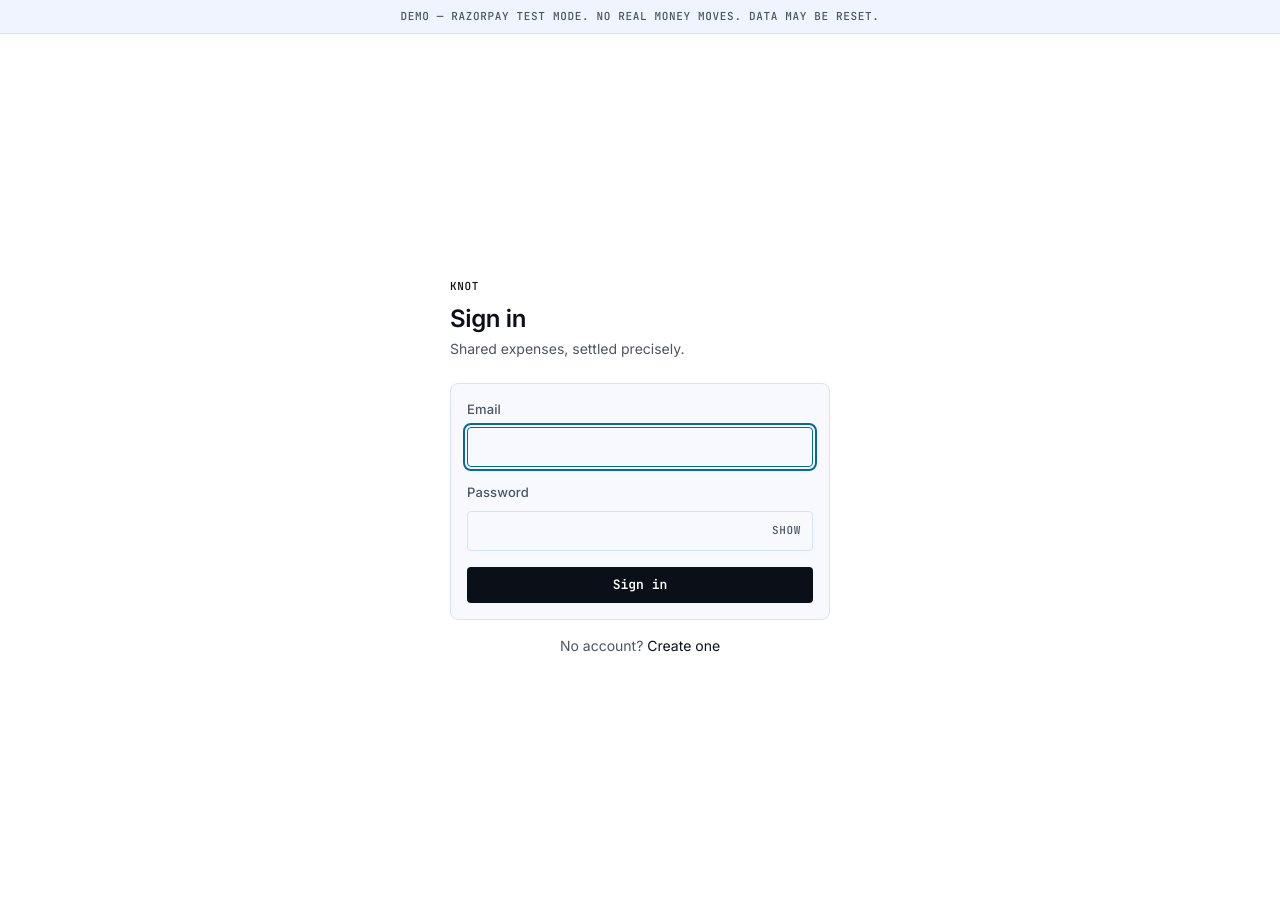
it: LoginPage › shows one message for bad credentials, revealing nothing about which part was wrong
In the field labelled "Email": (640, 447) [467,427,813,467], type "member@example.com"
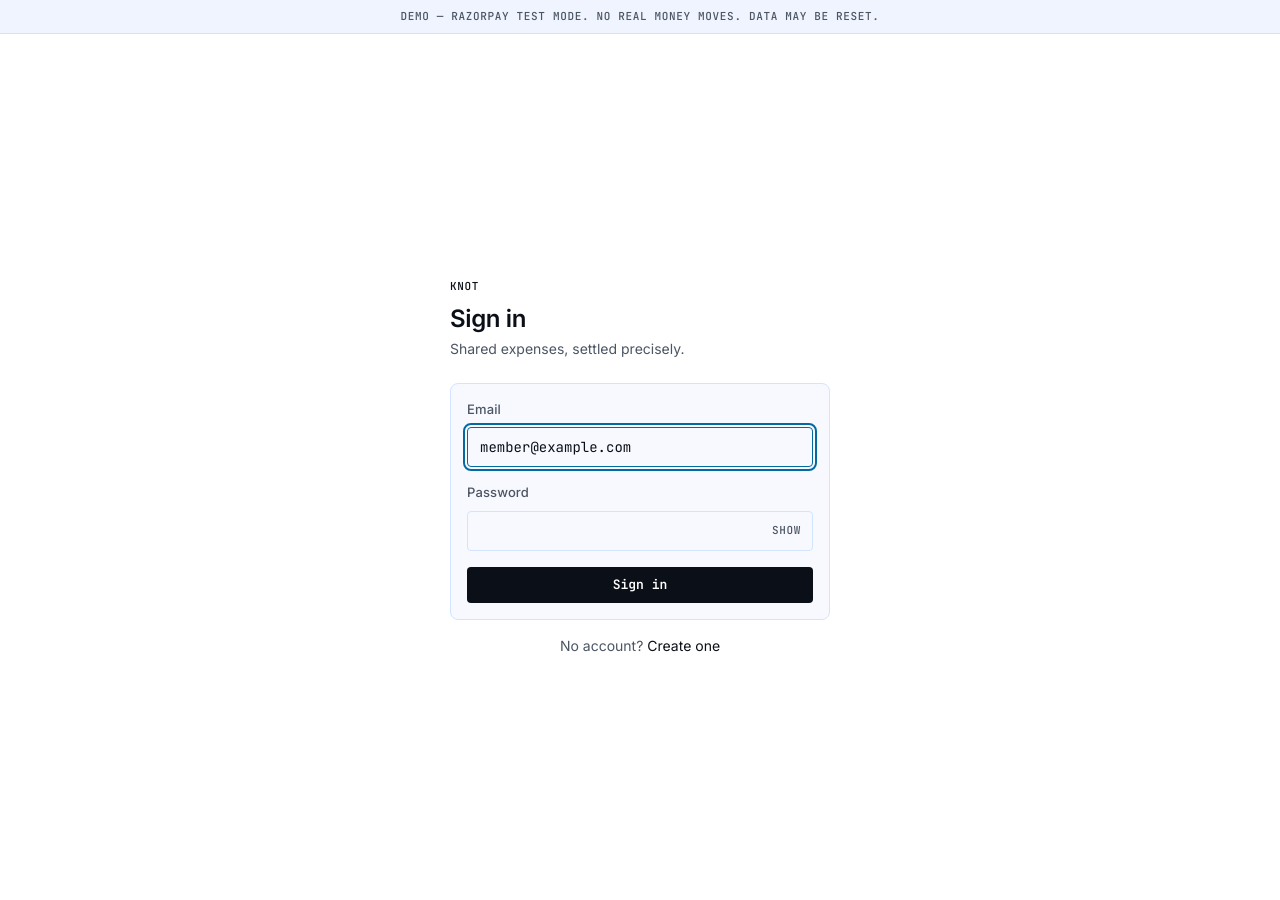
In the password field labelled "Password": (640, 530) [467,510,813,550], type "wrong-password"
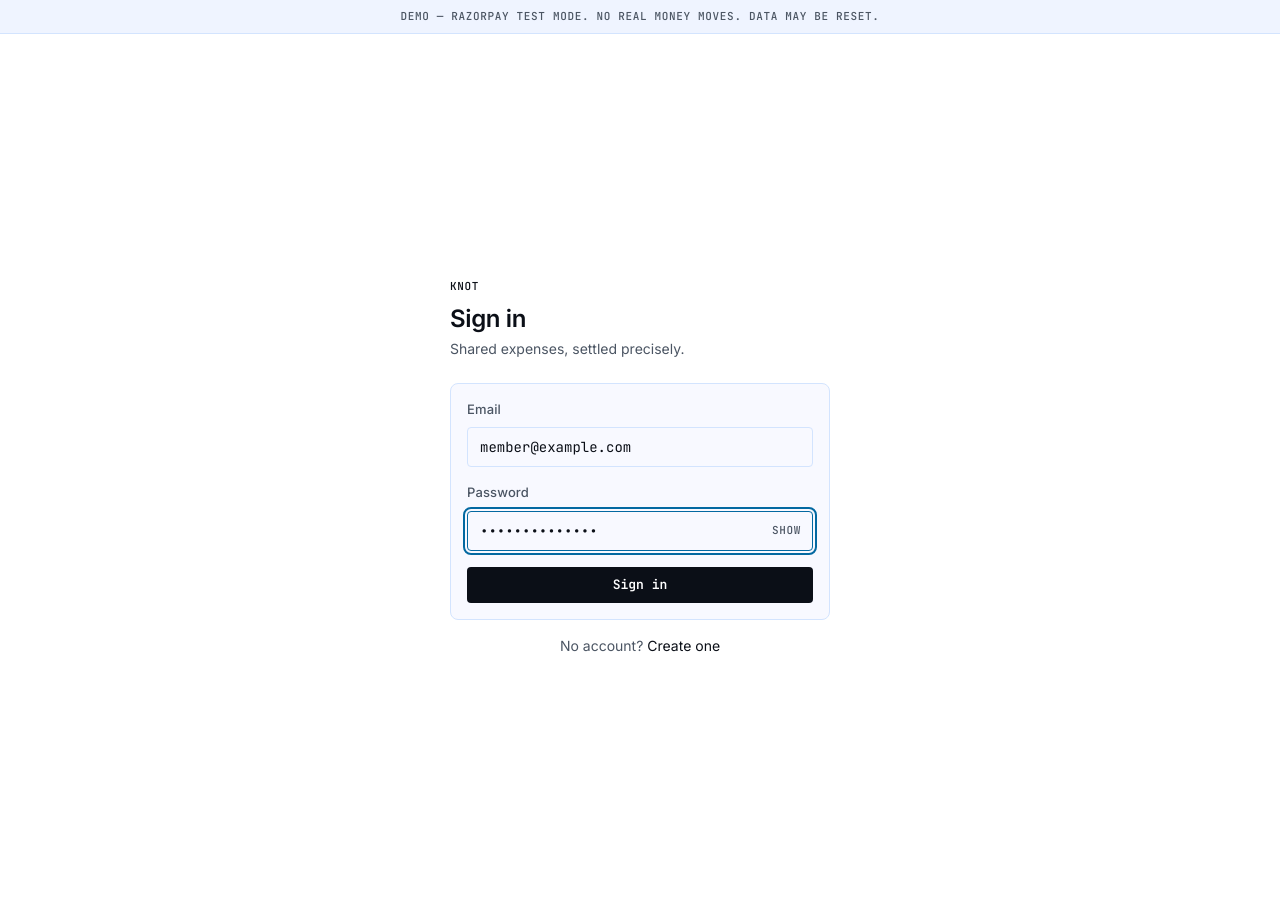
Click the button "Sign in": (640, 584) [467,566,813,602]
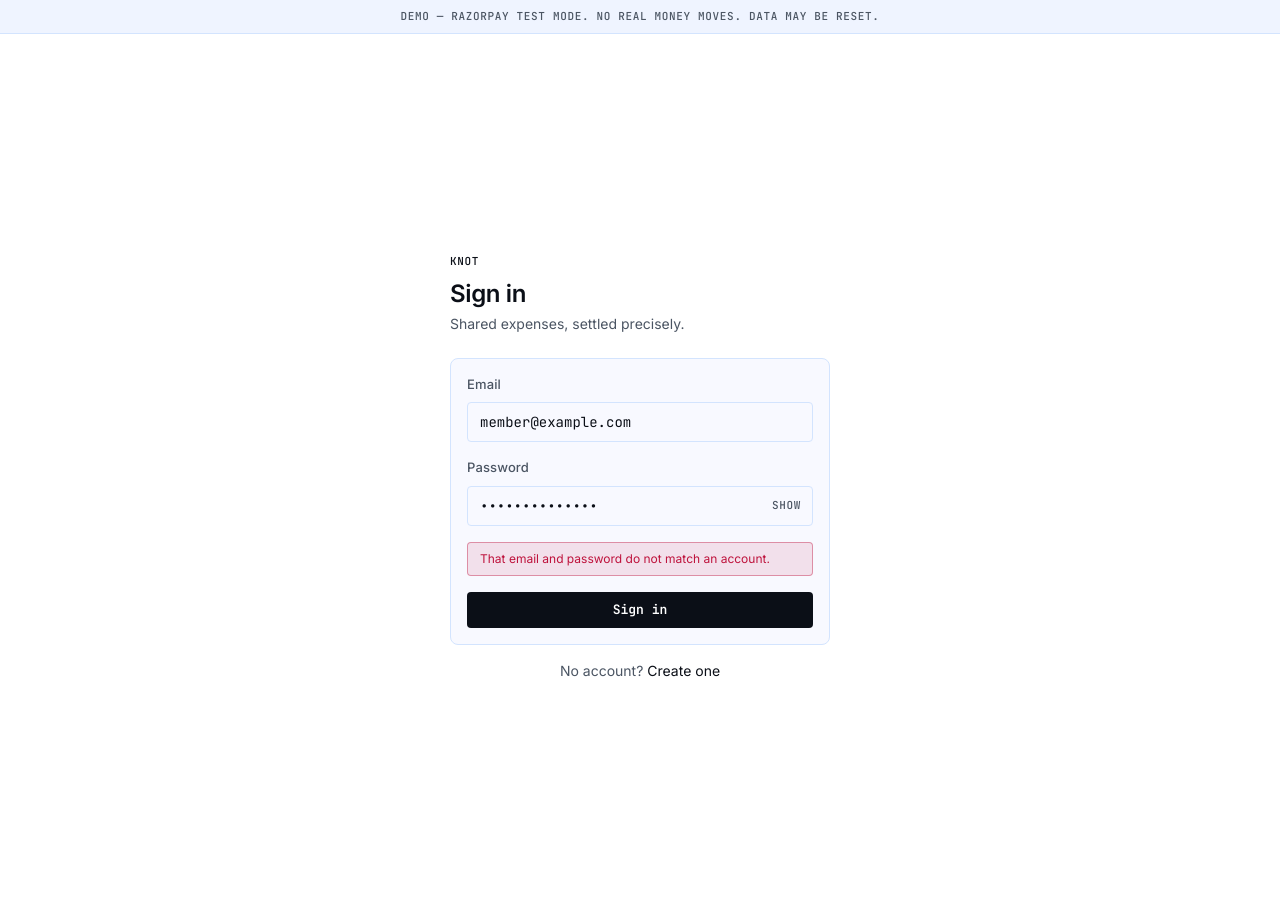
Check: the message reads "That email and password do not match an account.", box [480,550,770,566]
